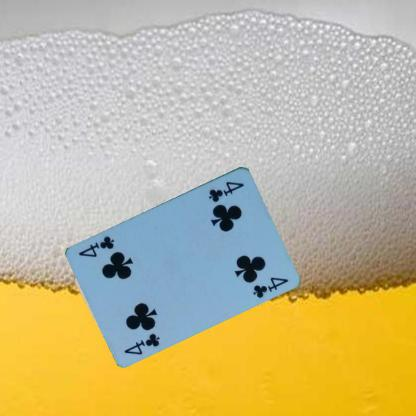4c: (206, 178, 246, 204), (122, 330, 162, 356)
